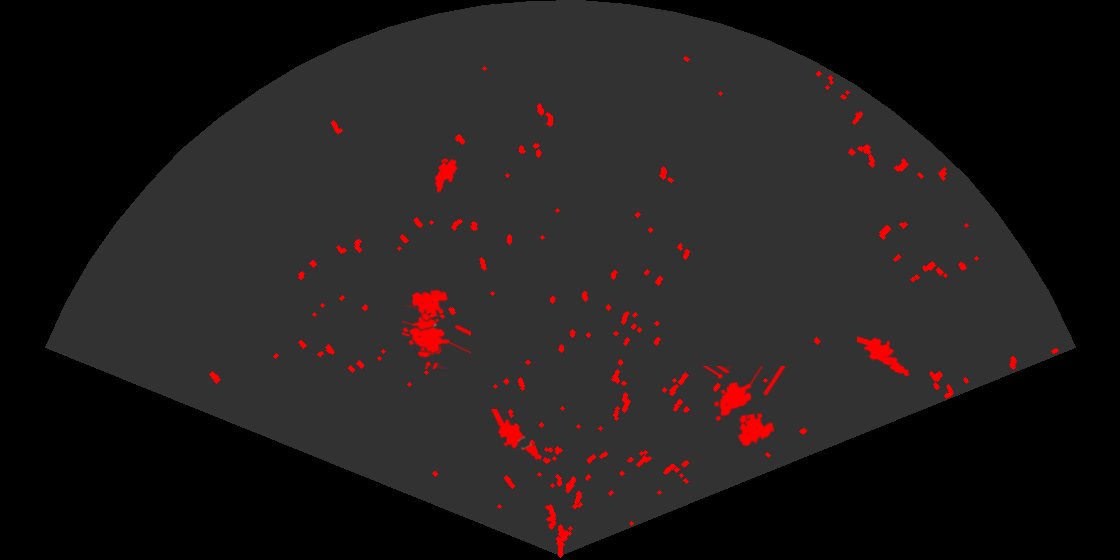AUV: (433, 157, 459, 195)
cage: (701, 366, 788, 448), (401, 288, 471, 369), (402, 305, 443, 359)
frogman: (489, 409, 543, 462), (857, 335, 912, 378)
